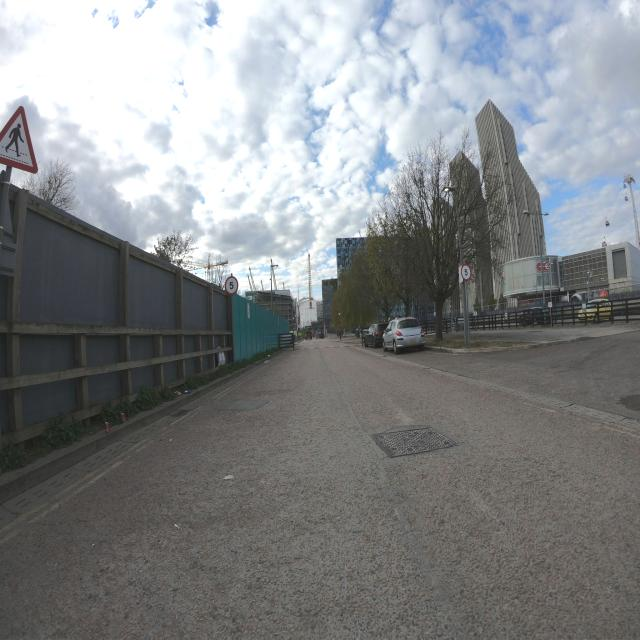car: (382, 317, 426, 353), (364, 322, 388, 348), (361, 326, 370, 342)
